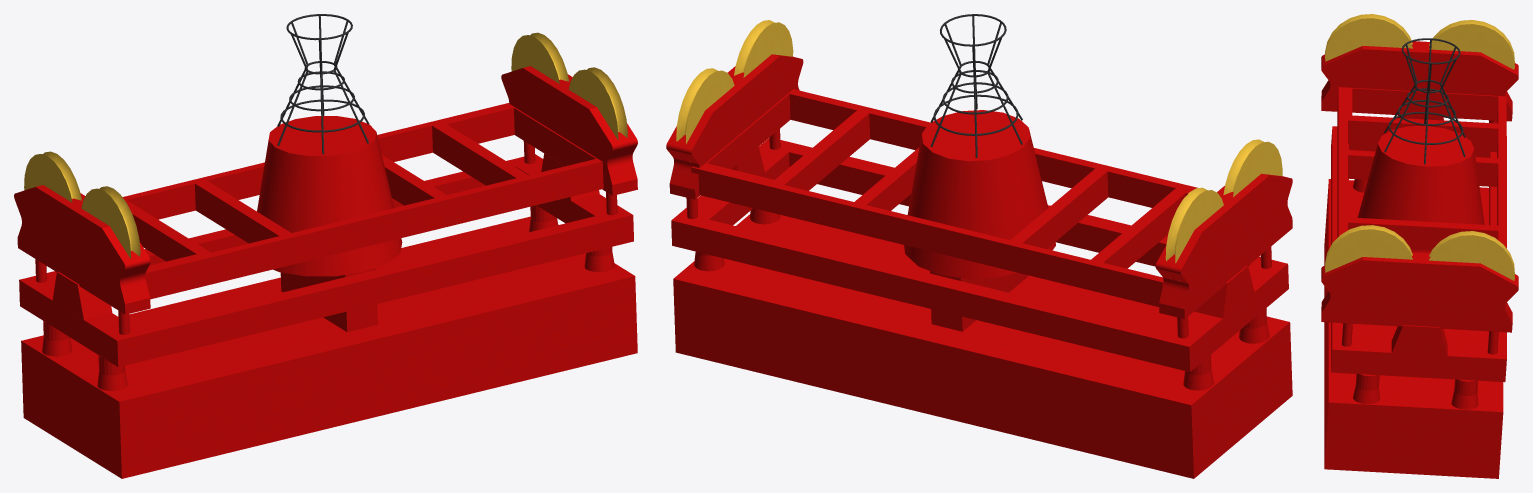
Rendered from STSHoist.FBX.
3 views of the same model, side by side, from view 1: azimuth 30°, elevation 25°; view 2: azimuth 150°, elevation 25°; view 3: azimuth 270°, elevation 25° (orthographic). The views are drawn at different scales.
Parts seen in each view (by area): view 1: STSHoist001; view 2: STSHoist001; view 3: STSHoist001.
Boxes of the visible parts, x1,y1,x2,y2 form: STSHoist001: [14, 14, 637, 478]; STSHoist001: [666, 14, 1292, 478]; STSHoist001: [1321, 14, 1518, 478].
Bounding box in the file's own units: 544 × 362 × 203.
